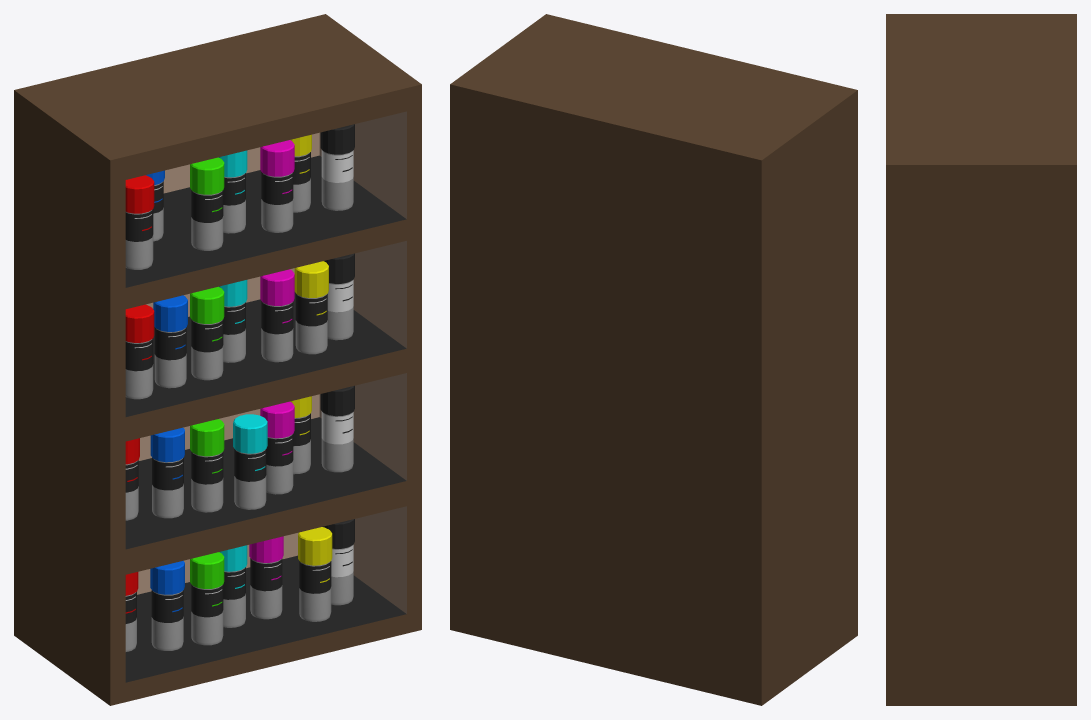
Rendered from SprayPaint_Storage.fbx.
3 renders of one model, left to right at view 1: azimuth 30°, elevation 25°; view 2: azimuth 150°, elevation 25°; view 3: azimuth 270°, elevation 25°, orthographic.
Parts seen in each view (by area): view 1: pCube10; view 2: pCube10; view 3: pCube10.
Part boxes in pixels (bbox=[...]): pCube10: bbox=[14, 14, 421, 705]; pCube10: bbox=[450, 14, 857, 705]; pCube10: bbox=[886, 14, 1076, 705].
Size of the model in its own units: 31.76 by 53.11 by 16.97.
